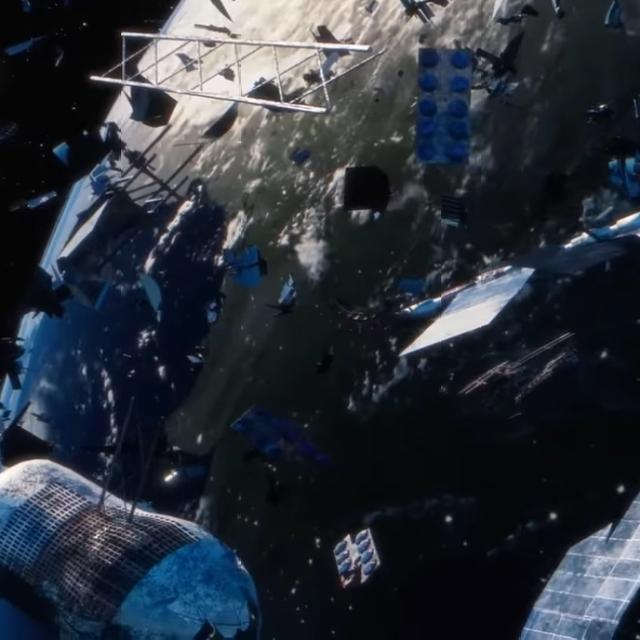large_debris: (0, 445, 276, 640), (46, 142, 254, 325), (84, 10, 369, 134), (497, 472, 640, 640), (382, 258, 544, 370), (399, 36, 486, 180), (320, 522, 387, 596)
